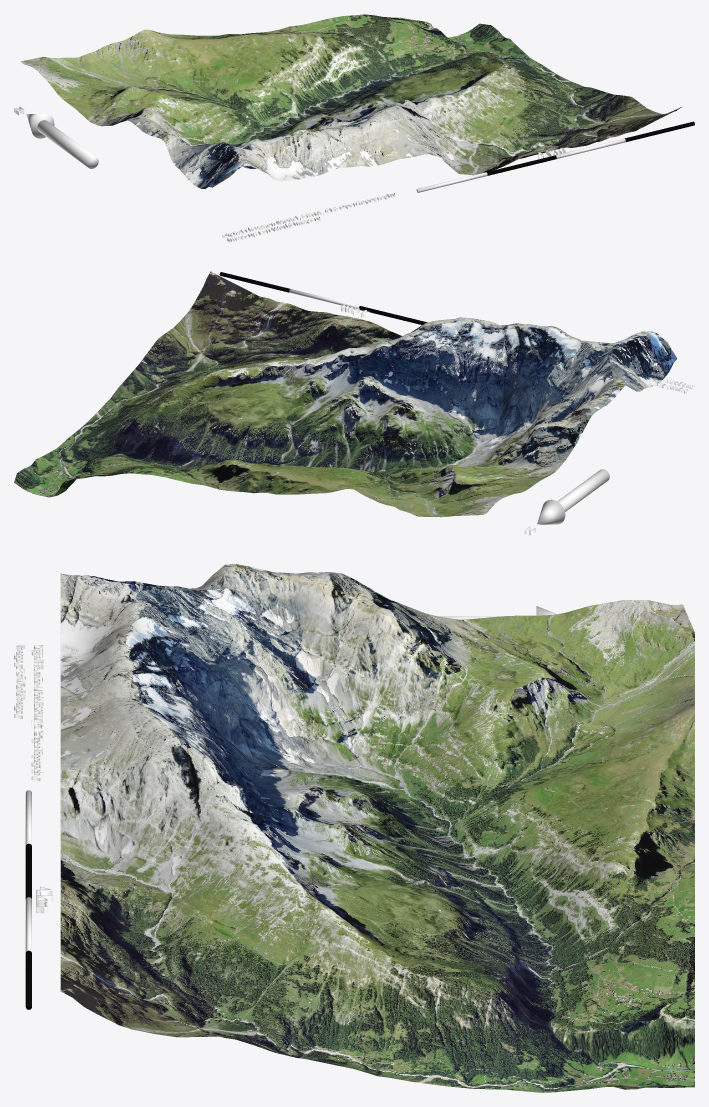
File: chilchbalm-low.glb
The picture shows the model from 3 angles, top to bottom: view 1: azimuth 30°, elevation 25°; view 2: azimuth 150°, elevation 25°; view 3: azimuth 270°, elevation 25°; orthographic projection. The views are drawn at different scales.
Visible parts, largest first — view 1: TerrainNode, Adornments; view 2: TerrainNode, Adornments; view 3: TerrainNode, Adornments.
Part boxes in pixels (x1,y1,x2,y2): TerrainNode: (20,14,682,188); Adornments: (14,106,694,242); TerrainNode: (14,271,676,517); Adornments: (219,272,694,535); TerrainNode: (60,564,694,1092); Adornments: (14,606,556,1009).
Size of the model in its own units: 10568 by 2392 by 7816.
Materials: 2 (1 with a texture image).
